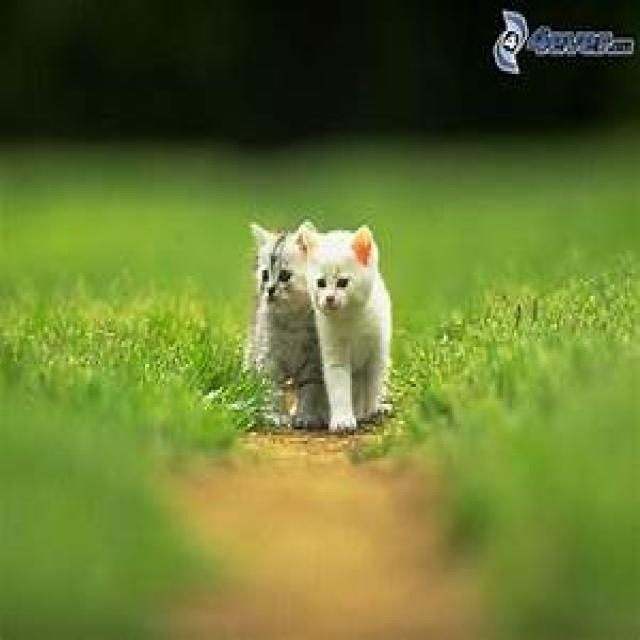cat: (294, 219, 392, 432), (241, 219, 326, 430)
